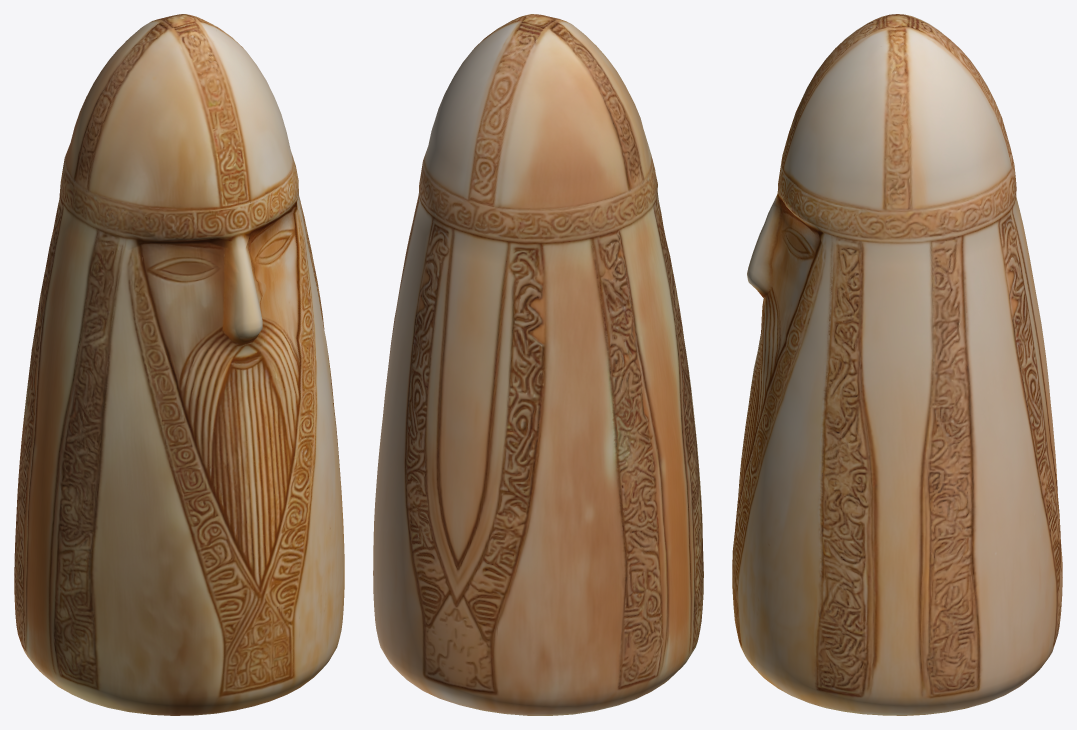
Rendered from defender-piece.glb.
3 views of the same model, side by side, from view 1: azimuth 30°, elevation 25°; view 2: azimuth 150°, elevation 25°; view 3: azimuth 270°, elevation 25° (orthographic).
Parts seen in each view (by area): view 1: Mesh0; view 2: Mesh0; view 3: Mesh0.
Part boxes in pixels (left/top/right/bottom): Mesh0: left=14, top=14, right=344, bottom=715; Mesh0: left=373, top=14, right=703, bottom=715; Mesh0: left=732, top=14, right=1062, bottom=715.
Bounding box in the file's own units: 0.8932 × 1.92 × 0.8953.
Materials: 1 (1 with a texture image).
